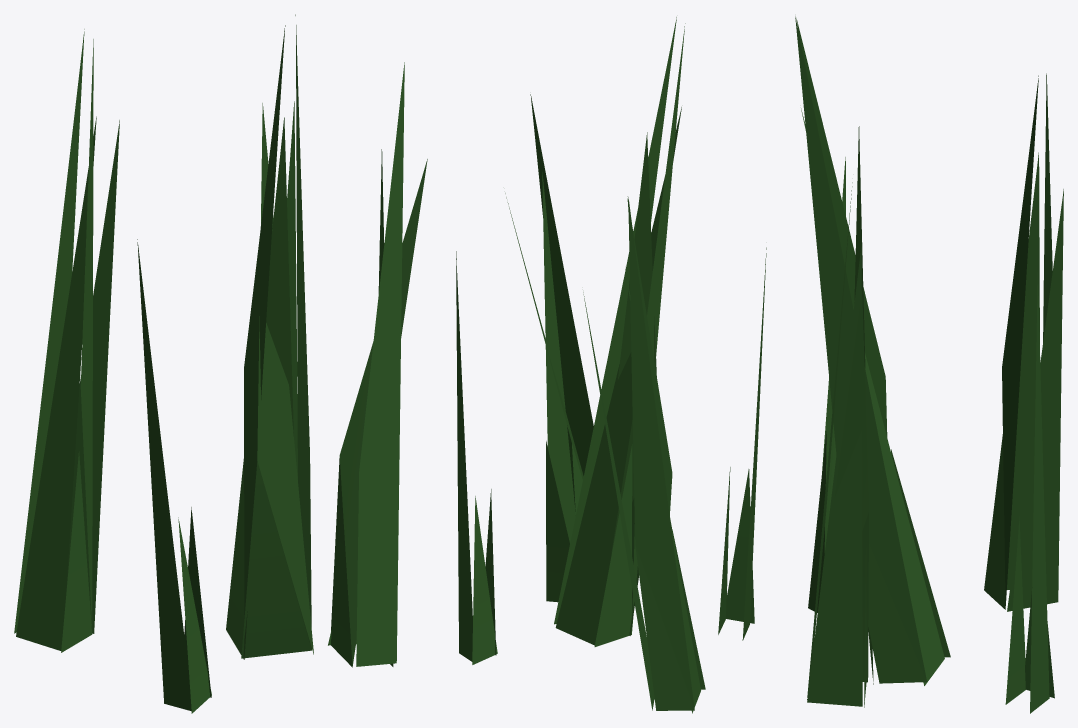
Rendered from Grass3_low.glb.
The picture shows the model from 3 angles, left to right: view 1: azimuth 30°, elevation 25°; view 2: azimuth 150°, elevation 25°; view 3: azimuth 270°, elevation 25°; orthographic projection. The views are drawn at different scales.
Visible parts, largest first — view 1: Grass_007; view 2: Grass_007; view 3: Grass_007.
Part boxes in pixels (box(x1,y1,x2,y2)): Grass_007: box(14, 14, 427, 713); Grass_007: box(456, 17, 766, 713); Grass_007: box(795, 16, 1063, 713).
Bounding box in the file's own units: 0.2675 × 0.5511 × 0.2084.
